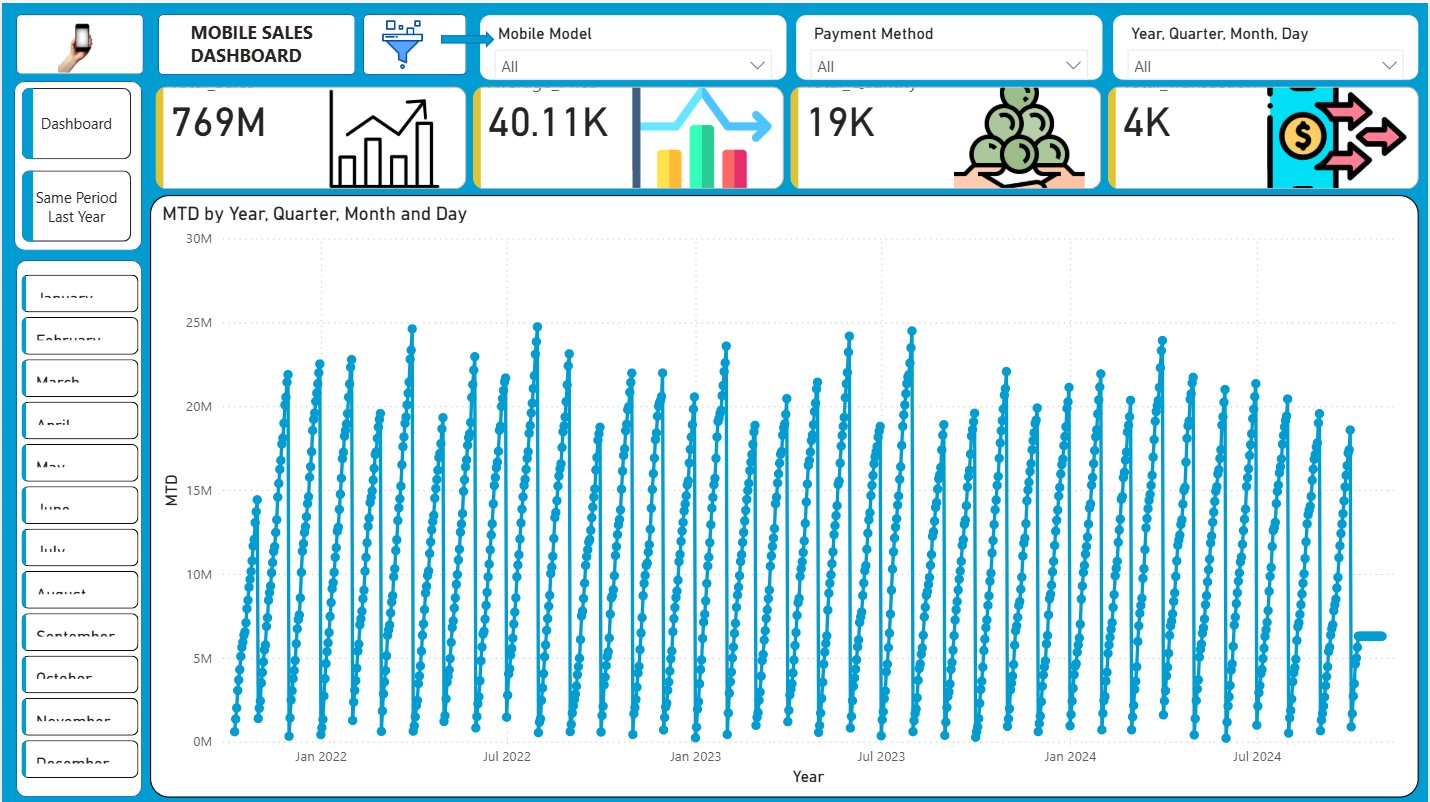

The dashboard page shown, as its layout file describes it:
{"tool":"powerbi","page":{"name":"MTD","canvas":[1280,720],"ordinal":1},"visuals":[{"type":"shape","box":[12.6,9.7,114.8,54.5],"z":0},{"type":"shape","box":[10.6,70,115.1,152.4],"z":1000},{"type":"shape","box":[12.5,231.1,113.1,482.3],"z":2000},{"type":"advancedSlicerVisual","fields":{"Values":["Custom_Calender.Date.Variation.Date Hierarchy.Month"]},"box":[12.5,238.7,115.1,465],"z":3000},{"type":"cardVisual","fields":{"Data":["Sales_Data.Total_Sales","Sales_Data.Average_Price","Sales_Data.Total_Quantity","Sales_Data.Total_Transaction"]},"box":[133,70,1147.4,102.9],"z":4000},{"type":"slicer","fields":{"Values":["Sales_Data.Mobile Model"]},"box":[428.3,9.8,276.6,60.3],"z":5000},{"type":"slicer","fields":{"Values":["Sales_Data.Payment Method"]},"box":[712,9.8,276.6,60.3],"z":6000},{"type":"slicer","fields":{"Values":["Custom_Calender.Date.Variation.Date Hierarchy.Year","Custom_Calender.Date.Variation.Date Hierarchy.Quarter","Custom_Calender.Date.Variation.Date Hierarchy.Month","Custom_Calender.Date.Variation.Date Hierarchy.Day"]},"box":[996.6,9.8,275.8,60.3],"z":7000},{"type":"shape","box":[324.5,9.8,93.1,55],"z":8000},{"type":"image","box":[324.5,9.8,70,55],"z":9000},{"type":"shape","box":[393.7,24.8,47.9,15.1],"z":10000},{"type":"shape","box":[140.1,9.8,177.3,55],"z":11000},{"type":"textbox","box":[164,9.8,170.2,60.3],"z":12000},{"type":"lineChart","fields":{"Category":["Custom_Calender.Date.Variation.Date Hierarchy.Year","Custom_Calender.Date.Variation.Date Hierarchy.Quarter","Custom_Calender.Date.Variation.Date Hierarchy.Month","Custom_Calender.Date.Variation.Date Hierarchy.Day"],"Y":["Sales_Data.MTD"]},"box":[133.3,172.6,1139.1,540.8],"z":13000},{"type":"pageNavigator","box":[18.2,76.7,98.8,140],"z":13001},{"type":"image","box":[41.2,13.4,53.7,53.7],"z":13002}]}

Visuals, with their boxes on the page's 1280x720 design canvas (x1, y1, x2, y2). These are canvas units, not pixel positions in the 1430x802 screenshot, which may show the page scaled, cropped or inside an application window:
shape: bbox(13, 10, 127, 64)
shape: bbox(11, 70, 126, 222)
shape: bbox(12, 231, 126, 713)
advancedSlicerVisual - Custom_Calender.Date.Variation.Date Hierarchy.Month: bbox(12, 239, 128, 704)
cardVisual - Sales_Data.Total_Sales x Sales_Data.Average_Price: bbox(133, 70, 1280, 173)
slicer - Sales_Data.Mobile Model: bbox(428, 10, 705, 70)
slicer - Sales_Data.Payment Method: bbox(712, 10, 989, 70)
slicer - Custom_Calender.Date.Variation.Date Hierarchy.Year x Custom_Calender.Date.Variation.Date Hierarchy.Quarter: bbox(997, 10, 1272, 70)
shape: bbox(324, 10, 418, 65)
image: bbox(324, 10, 394, 65)
shape: bbox(394, 25, 442, 40)
shape: bbox(140, 10, 317, 65)
textbox: bbox(164, 10, 334, 70)
lineChart - Custom_Calender.Date.Variation.Date Hierarchy.Year x Custom_Calender.Date.Variation.Date Hierarchy.Quarter: bbox(133, 173, 1272, 713)
pageNavigator: bbox(18, 77, 117, 217)
image: bbox(41, 13, 95, 67)
